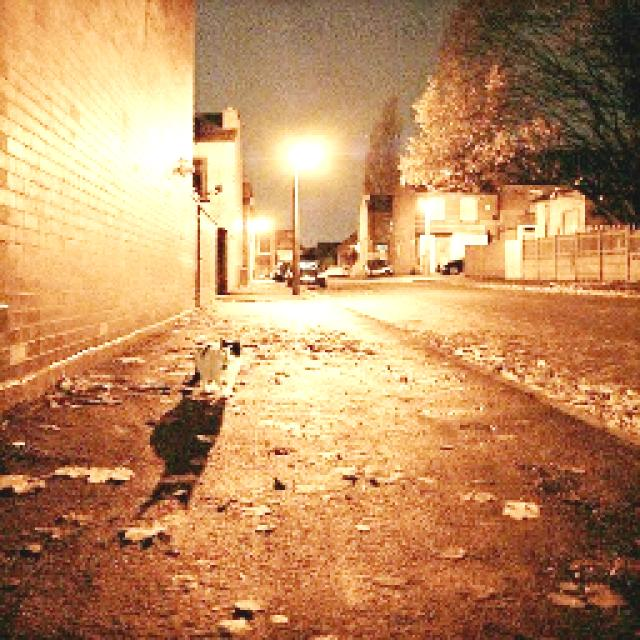cat: (186, 336, 246, 404)
